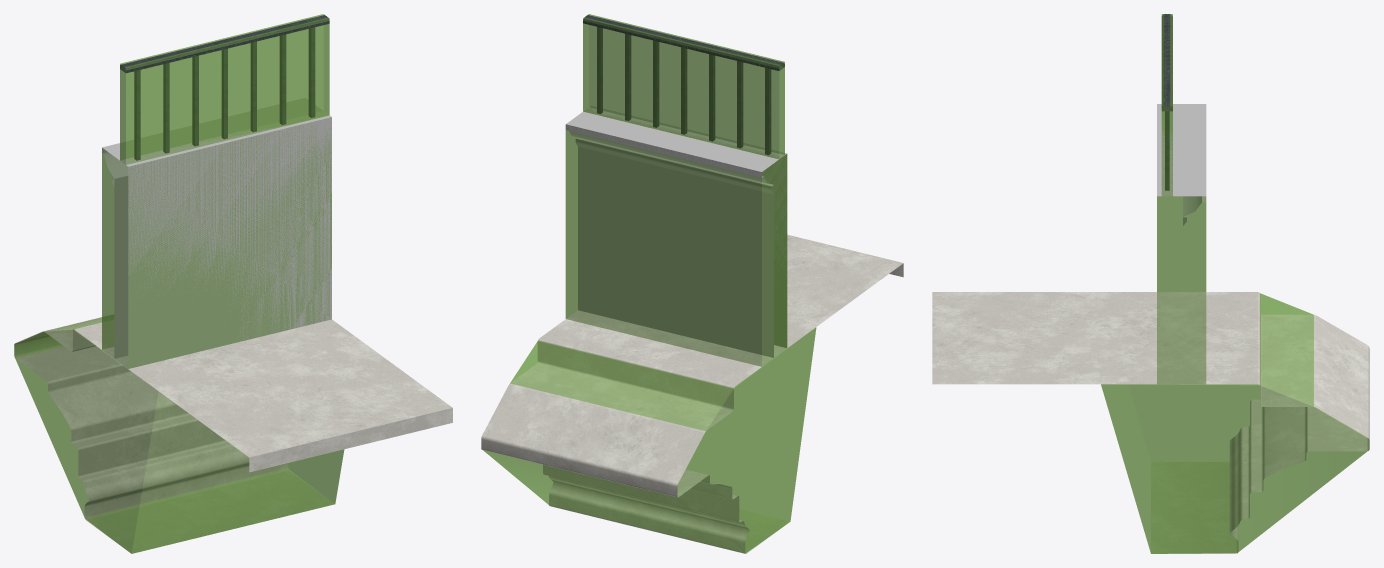
The model's file is F9_md_Roof_1m_01.fbx.
3 views of the same model, side by side, from view 1: azimuth 30°, elevation 25°; view 2: azimuth 150°, elevation 25°; view 3: azimuth 270°, elevation 25° (orthographic). The views are drawn at different scales.
Visible parts, largest first — view 1: F9_md_Roof_1m_01_LOD0, F9_md_Roof_1m_01_col_1, F9_md_Roof_1m_01_col_2, F9_md_Roof_1m_01_col_3; view 2: F9_md_Roof_1m_01_LOD0, F9_md_Roof_1m_01_col_1, F9_md_Roof_1m_01_col_2, F9_md_Roof_1m_01_col_3; view 3: F9_md_Roof_1m_01_LOD0, F9_md_Roof_1m_01_col_2, F9_md_Roof_1m_01_col_1, F9_md_Roof_1m_01_col_3.
Boxes of the visible parts, <box> form: F9_md_Roof_1m_01_LOD0: <box>14,15,452,553</box>; F9_md_Roof_1m_01_col_1: <box>102,123,331,368</box>; F9_md_Roof_1m_01_col_2: <box>14,317,344,553</box>; F9_md_Roof_1m_01_col_3: <box>120,14,329,164</box>; F9_md_Roof_1m_01_LOD0: <box>481,15,903,553</box>; F9_md_Roof_1m_01_col_1: <box>565,125,787,366</box>; F9_md_Roof_1m_01_col_2: <box>483,327,816,553</box>; F9_md_Roof_1m_01_col_3: <box>583,14,784,159</box>; F9_md_Roof_1m_01_LOD0: <box>932,14,1369,553</box>; F9_md_Roof_1m_01_col_2: <box>1101,293,1368,553</box>; F9_md_Roof_1m_01_col_1: <box>1157,196,1206,384</box>; F9_md_Roof_1m_01_col_3: <box>1161,14,1172,196</box>.
Size of what is drawn, in the model's own units: 100 by 226 by 200.
